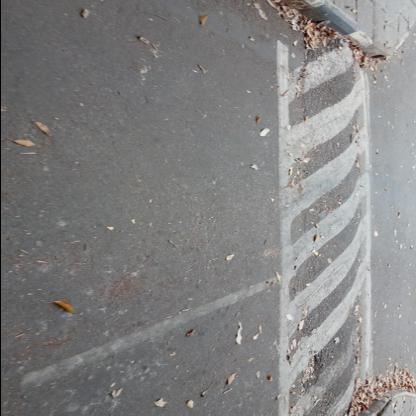speed-bumps: (262, 38, 374, 416)
